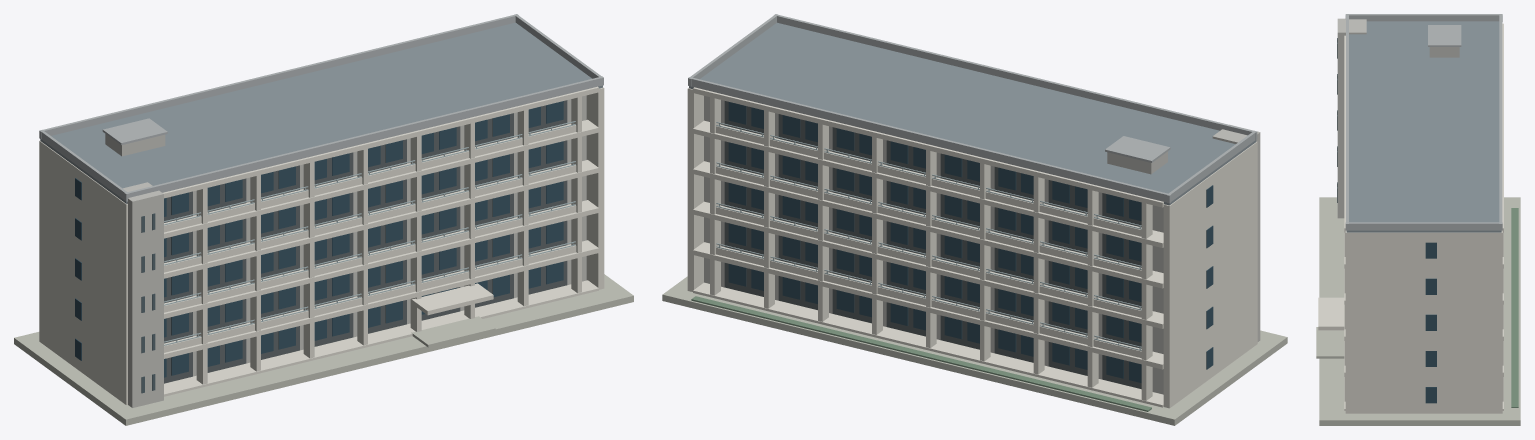
The picture shows the model from 3 angles, left to right: view 1: azimuth 30°, elevation 25°; view 2: azimuth 150°, elevation 25°; view 3: azimuth 270°, elevation 25°; orthographic projection. The views are drawn at different scales.
Size of the model in its own units: 40.4 by 17.1 by 15.63.
